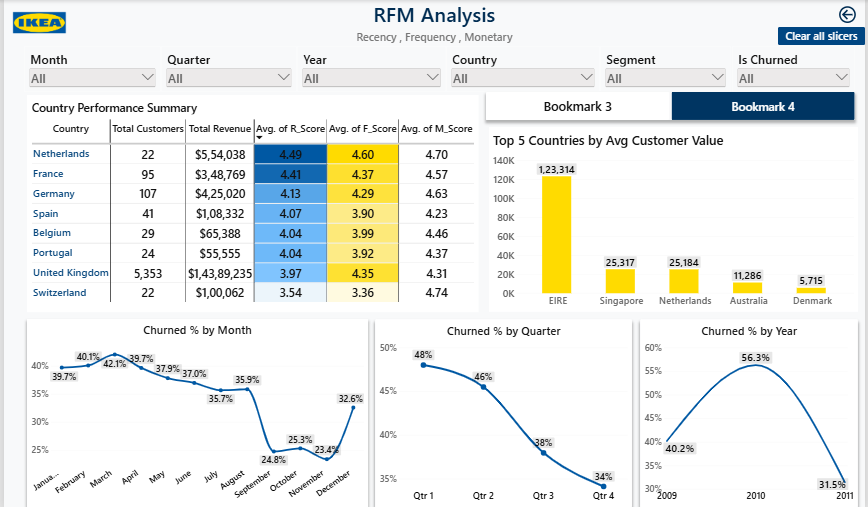

Layout of this report page (visuals, bound fields, positions):
{"tool":"powerbi","page":{"name":"RFM Analysis","canvas":[3390,2000],"ordinal":1},"visuals":[{"type":"pivotTable","title":"Country Performance Summary","fields":{"Rows":["Sheet.Country"],"Values":["Sheet.Total Customers","Sheet.Total Revenue","Avg(Sheet.R_Score)","Avg(Sheet.F_Score)","Avg(Sheet.M_Score)"]},"box":[89.5,374.4,1778.4,854.6],"z":0,"group":"g1"},{"type":"lineChart","title":"Churned %  by Month","fields":{"Category":["Sheet.InvoiceMonth.Variation.Date Hierarchy.Month"],"Y":["Sheet.Churned %"]},"box":[88.7,1255.9,1342.5,744.1],"z":0},{"type":"columnChart","title":"Top 5 Countries by Avg Customer Value","fields":{"Category":["Sheet.Country"],"Y":["Sheet.Average Customer Value"]},"box":[1908.6,500.6,1452.9,728.5],"z":1000,"group":"g1"},{"type":"lineChart","title":"Churned % by Quarter","fields":{"Category":["Sheet.InvoiceMonth.Variation.Date Hierarchy.Quarter"],"Y":["Sheet.Churned %"]},"box":[1458.8,1255.9,1011.8,744.1],"z":1000},{"type":"lineChart","title":"Churned % by Year","fields":{"Category":["Sheet.InvoiceMonth.Variation.Date Hierarchy.Year"],"Y":["Sheet.Churned %"]},"box":[2502.1,1255.9,858.3,744.1],"z":2000},{"type":"slicer","fields":{"Values":["Sheet.InvoiceMonth.Variation.Date Hierarchy.Month"]},"box":[78.7,181.1,539.4,181.1],"z":3000},{"type":"slicer","fields":{"Values":["Sheet.InvoiceMonth.Variation.Date Hierarchy.Quarter"]},"box":[618.1,181.1,535.4,181.1],"z":4000},{"type":"slicer","fields":{"Values":["Sheet.InvoiceMonth.Variation.Date Hierarchy.Year"]},"box":[1153.5,181.1,586.6,181.1],"z":5000},{"type":"slicer","fields":{"Values":["Sheet.Country"]},"box":[1740.2,181.1,606.3,181.1],"z":6000},{"type":"slicer","fields":{"Values":["Sheet.Segment"]},"box":[2346.5,181.1,515.7,181.1],"z":7000},{"type":"slicer","fields":{"Values":["Sheet.IsChurned"]},"box":[2866.1,181.1,484.3,181.1],"z":8000},{"type":"bookmarkNavigator","box":[1897.6,362.2,1452.8,110.2],"z":10000},{"type":"image","box":[0,0,279,179.1],"z":11000},{"type":"textbox","box":[1024.5,0,1341,108.3],"z":12000},{"type":"textbox","box":[1047.2,114.2,1295.3,66.9],"z":13000},{"type":"actionButton","box":[3236.4,0,153.6,114.2],"z":14000},{"type":"actionButton","box":[3047.5,106.3,342.5,70.9],"z":15000},{"type":"group","id":"g1","title":"Group 1","box":[89.5,374.4,3272,854.6],"z":17000}]}

Visuals, with their boxes in screenshot pixels (x1, y1, x2, y2), scaled from the page's 3390x2000 canvas onto the 868x507 screenshot:
"Country Performance Summary" pivotTable: Rect(23, 95, 478, 312)
"Churned %  by Month" lineChart: Rect(23, 318, 366, 506)
"Top 5 Countries by Avg Customer Value" columnChart: Rect(489, 127, 861, 312)
"Churned % by Quarter" lineChart: Rect(374, 318, 633, 506)
"Churned % by Year" lineChart: Rect(641, 318, 860, 506)
slicer - Sheet.InvoiceMonth.Variation.Date Hierarchy.Month: Rect(20, 46, 158, 92)
slicer - Sheet.InvoiceMonth.Variation.Date Hierarchy.Quarter: Rect(158, 46, 295, 92)
slicer - Sheet.InvoiceMonth.Variation.Date Hierarchy.Year: Rect(295, 46, 446, 92)
slicer - Sheet.Country: Rect(446, 46, 601, 92)
slicer - Sheet.Segment: Rect(601, 46, 733, 92)
slicer - Sheet.IsChurned: Rect(734, 46, 858, 92)
bookmarkNavigator: Rect(486, 92, 858, 120)
image: Rect(0, 0, 71, 45)
textbox: Rect(262, 0, 606, 27)
textbox: Rect(268, 29, 600, 46)
actionButton: Rect(829, 0, 867, 29)
actionButton: Rect(780, 27, 867, 45)
"Group 1" group: Rect(23, 95, 861, 312)
